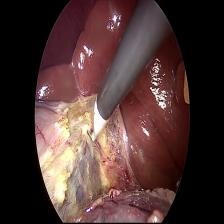Hook: (82, 95, 110, 150)
